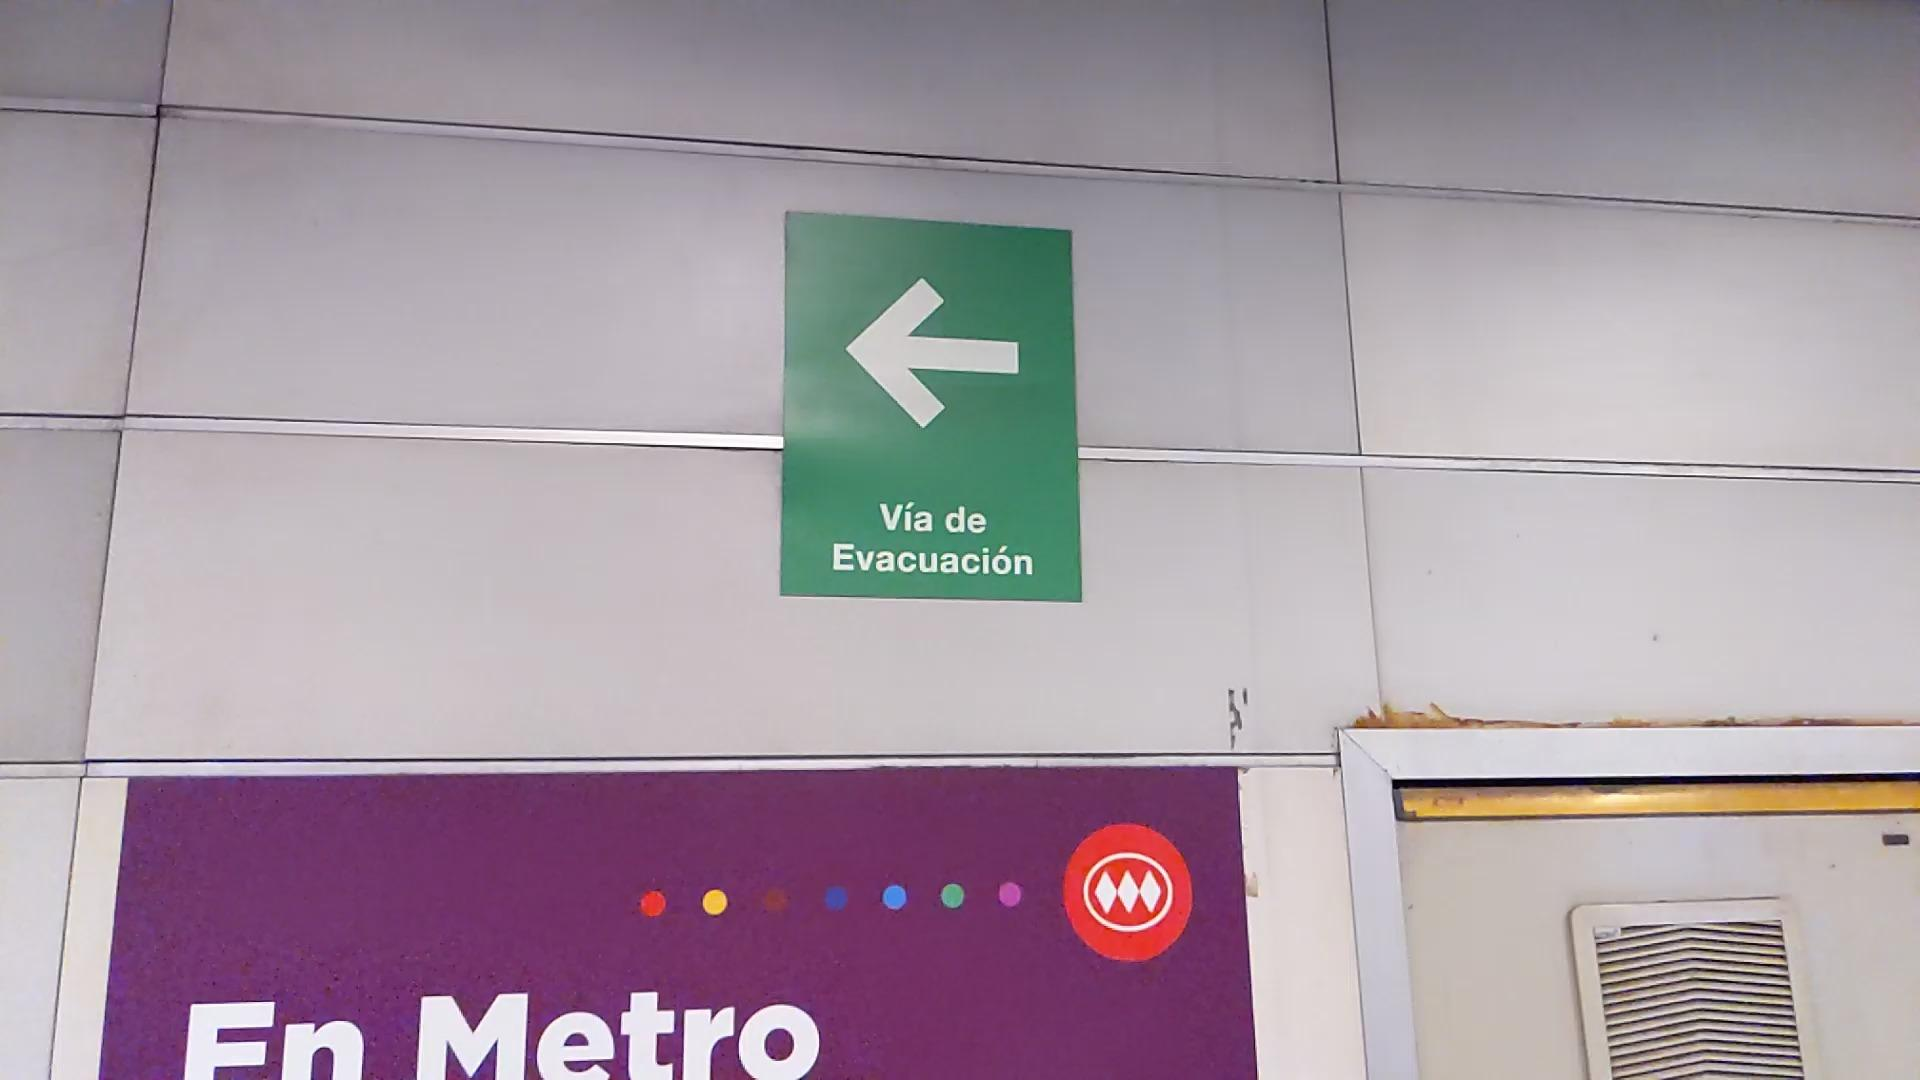emergency left arrow: (837, 276, 1029, 434)
